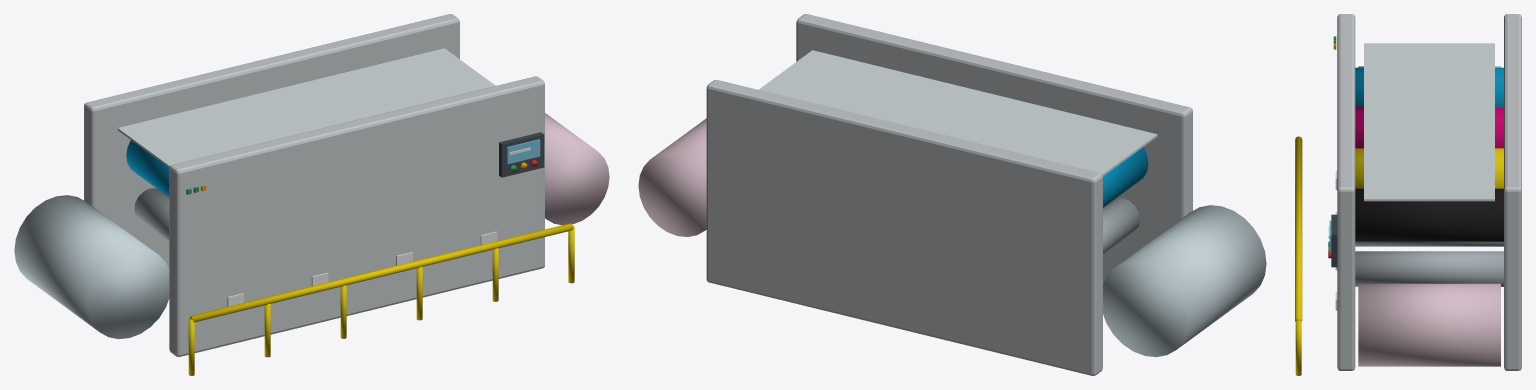
Rendered from m_flexo.glb.
The picture shows the model from 3 angles, left to right: view 1: azimuth 30°, elevation 25°; view 2: azimuth 150°, elevation 25°; view 3: azimuth 270°, elevation 25°; orthographic projection. The views are drawn at different scales.
Visible parts, largest first — view 1: m_flexo; view 2: m_flexo; view 3: m_flexo.
Boxes of the visible parts, bbox=[...] form: m_flexo: bbox=[14, 14, 609, 375]; m_flexo: bbox=[638, 14, 1266, 375]; m_flexo: bbox=[1295, 14, 1521, 375].
Bounding box in the file's own units: 0.99 × 0.34 × 0.381.
